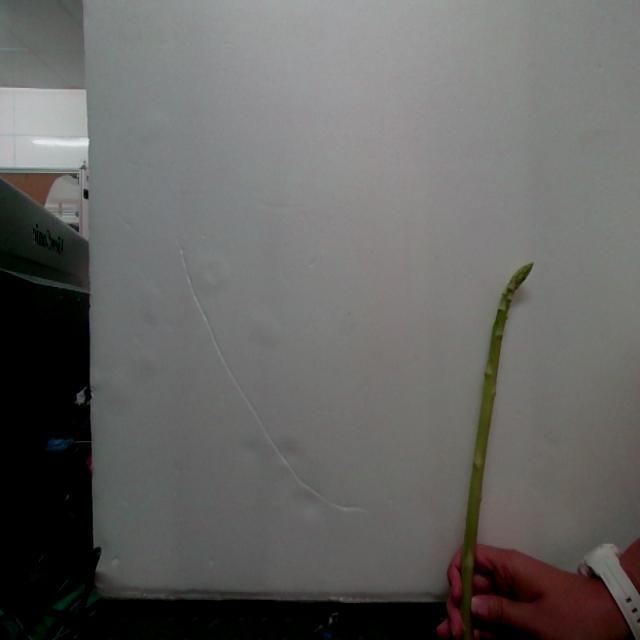aspargus: (460, 265, 535, 640)
